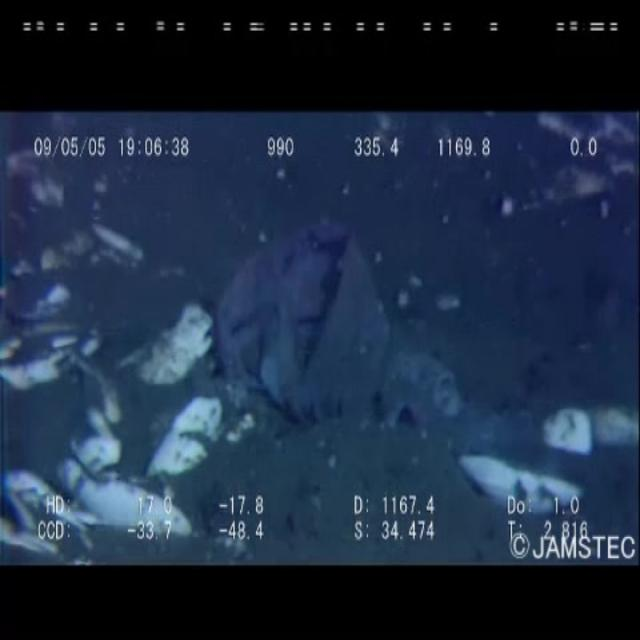Accessories: (212, 214, 468, 441)
